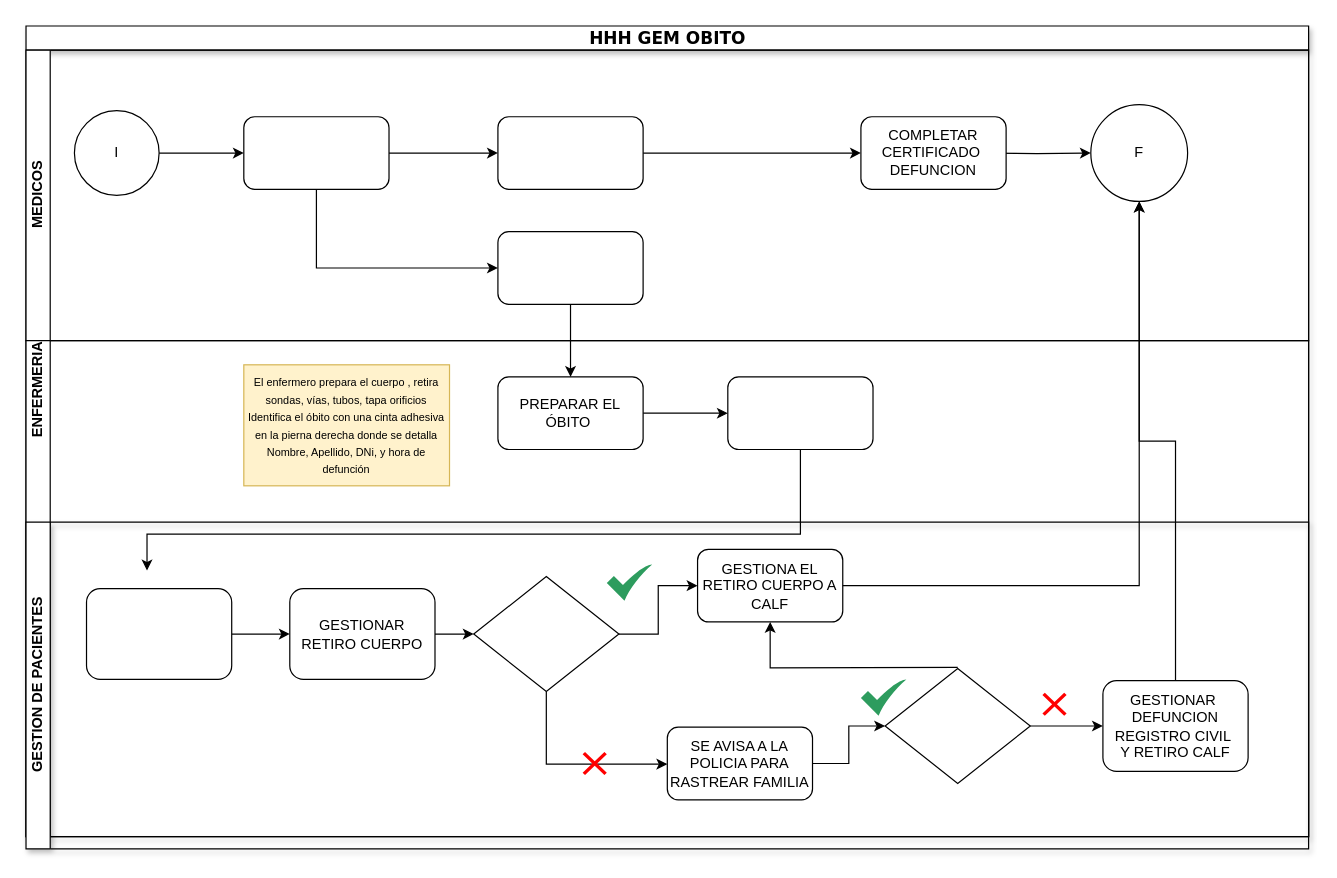
This 1337x878 diagram has some shape labels left out. Each missing label, with the centre of its shape:
DECLARAR DEFUNCION: (x=316, y=152)
NOTIFICAR CAMILLERO PARA TRASLADAR OBITO A LA MORGUE: (x=158, y=633)
NOTIFICAR FAMILIARES: (x=570, y=152)
SE PRESENTA FAMILIA O CONTACTO: (x=957, y=725)
SOLICITAR PREPARACION CUERPO: (x=570, y=267)
SOLICITAR RETIRO: (x=800, y=413)
TIENE FAMILIA/ contacto: (x=546, y=633)
